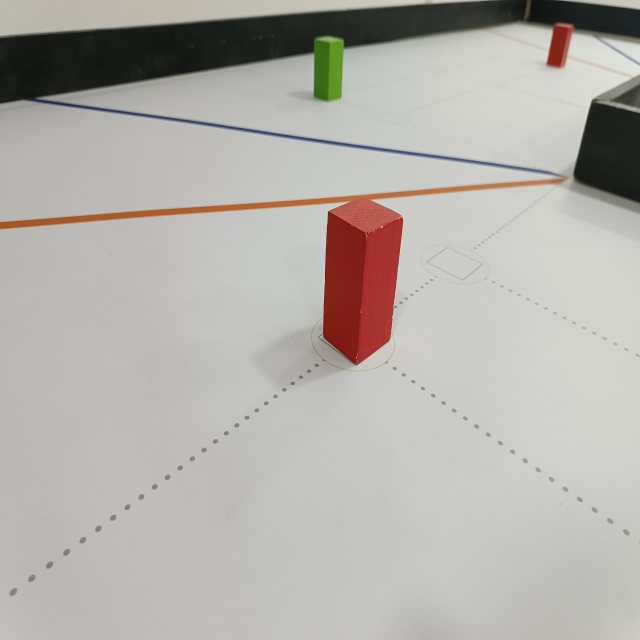blue line: (20, 90, 570, 184)
green rectangular prism: (308, 33, 348, 104)
orange line: (0, 176, 575, 233)
red rectangular prism: (319, 197, 403, 370), (541, 21, 577, 72)
